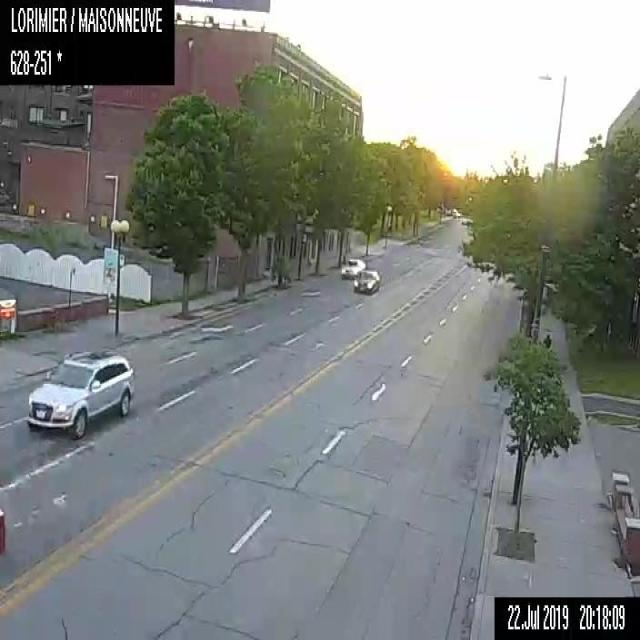pedestrian: (542, 333, 551, 348)
vehicle: (24, 347, 134, 440), (354, 269, 379, 293), (340, 257, 366, 277)
